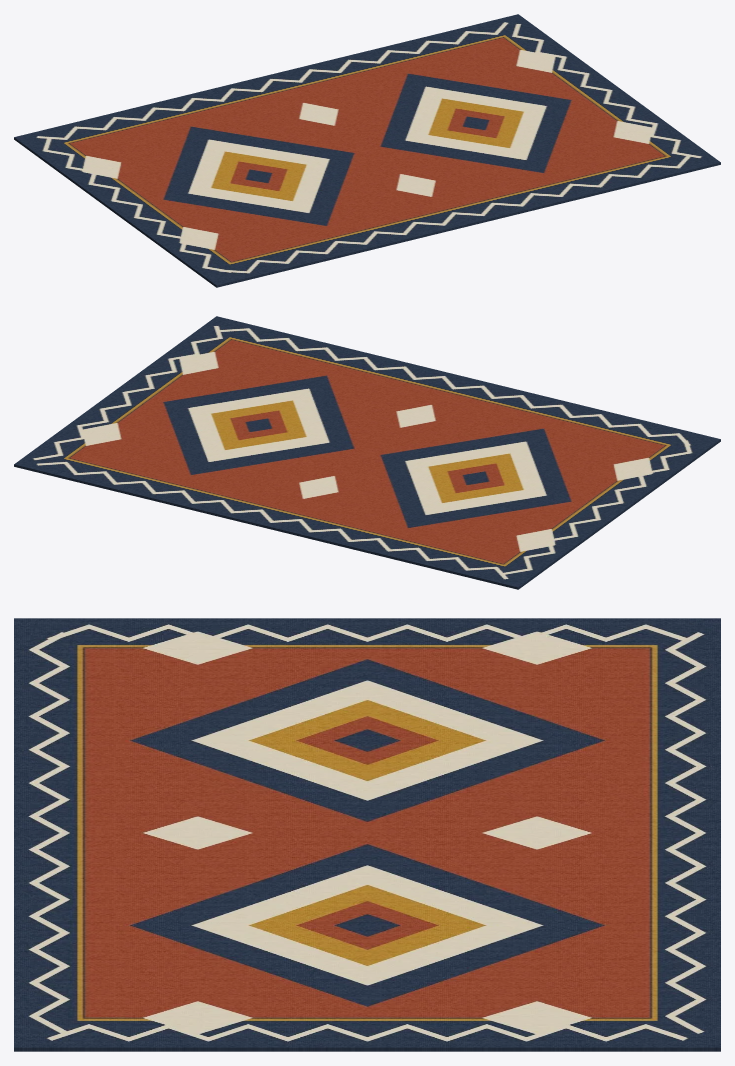
The model's file is alfombra_kilim_160x230.glb.
The picture shows the model from 3 angles, top to bottom: view 1: azimuth 30°, elevation 25°; view 2: azimuth 150°, elevation 25°; view 3: azimuth 270°, elevation 25°; orthographic projection. The views are drawn at different scales.
Visible parts, largest first — view 1: alfombra_kilim_160x230; view 2: alfombra_kilim_160x230; view 3: alfombra_kilim_160x230.
Part boxes in pixels (x1,y1,x2,y2): alfombra_kilim_160x230: (14,14,720,287); alfombra_kilim_160x230: (14,316,720,589); alfombra_kilim_160x230: (14,618,720,1051).
Size of the model in its own units: 2.3 by 0.01 by 1.6.
Materials: 1 (1 with a texture image).
